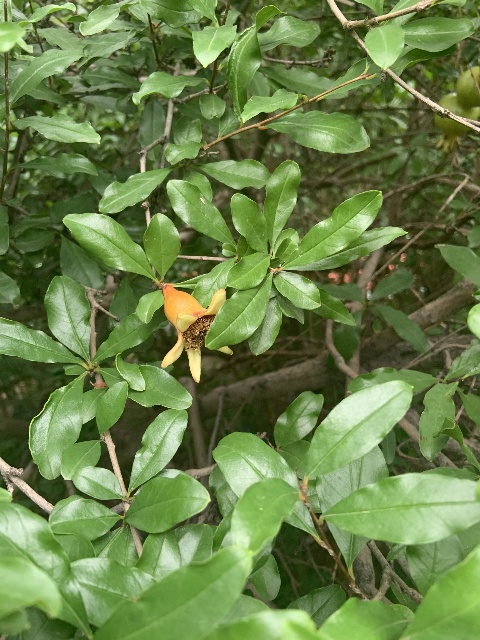early-fruit: (161, 281, 230, 384)
mid-growth: (434, 91, 480, 153), (456, 65, 480, 108)
